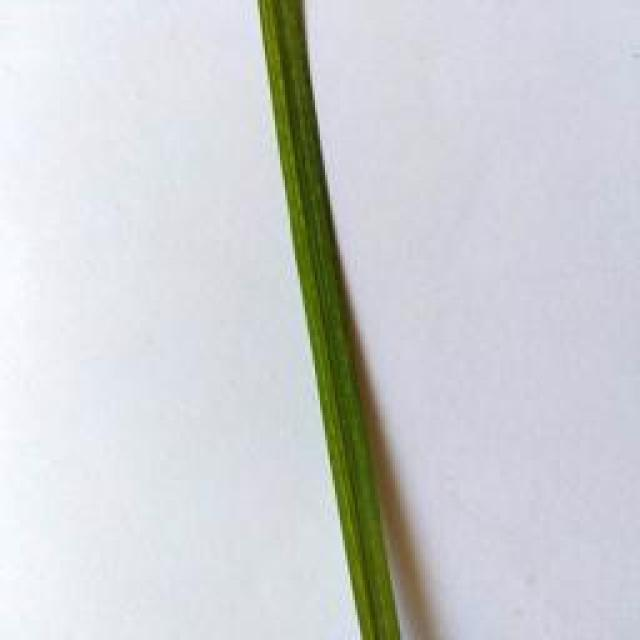Healthy-Plant: (250, 0, 408, 640)
